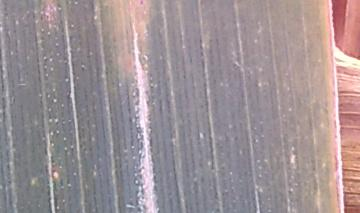tarspot: (135, 1, 147, 7)
